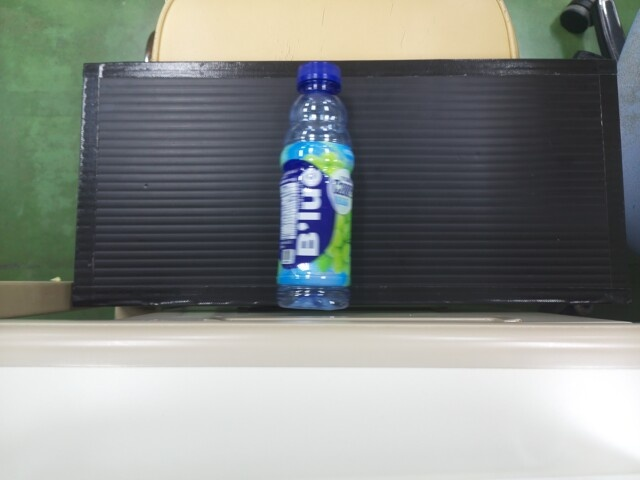plastic_bottle: (275, 55, 356, 305)
